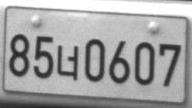0: (82, 37, 105, 82), (133, 41, 156, 86)
5: (32, 35, 54, 79)
6: (108, 39, 131, 84)
7: (158, 42, 182, 88)
8: (8, 32, 30, 77)
너: (56, 44, 79, 80)
